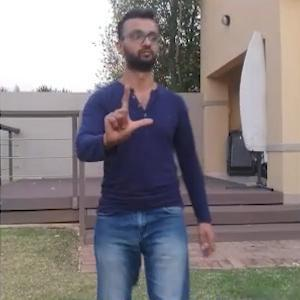land_hand: (97, 81, 158, 153)
